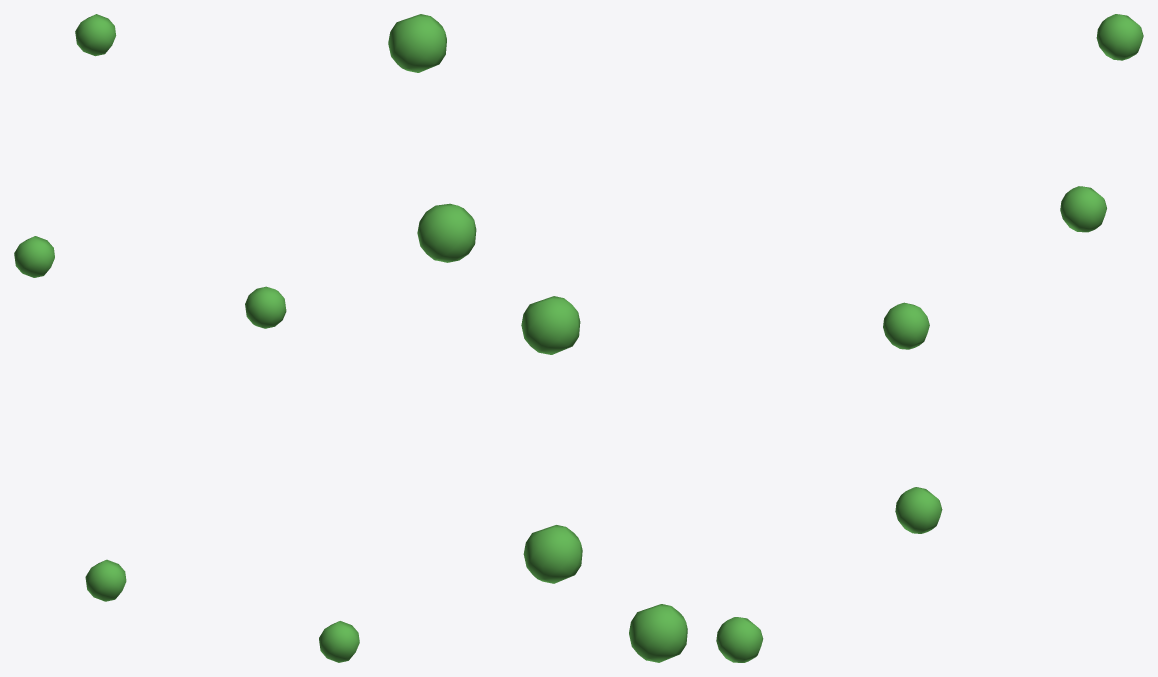
File: linfatico-interpectoral-nodes-r.glb
3 renders of one model, left to right at view 1: azimuth 30°, elevation 25°; view 2: azimuth 150°, elevation 25°; view 3: azimuth 270°, elevation 25°, orthographic. The views are drawn at different scales.
Parts seen in each view (by area): view 1: Interpectoral nodes.r; view 2: Interpectoral nodes.r; view 3: Interpectoral nodes.r.
Part boxes in pixels (box(x1,y1,x2,y2)): Interpectoral nodes.r: box(14, 14, 359, 662); Interpectoral nodes.r: box(388, 14, 687, 662); Interpectoral nodes.r: box(716, 14, 1143, 662).
Bounding box in the file's own units: 0.0135 × 0.0365 × 0.0234.
